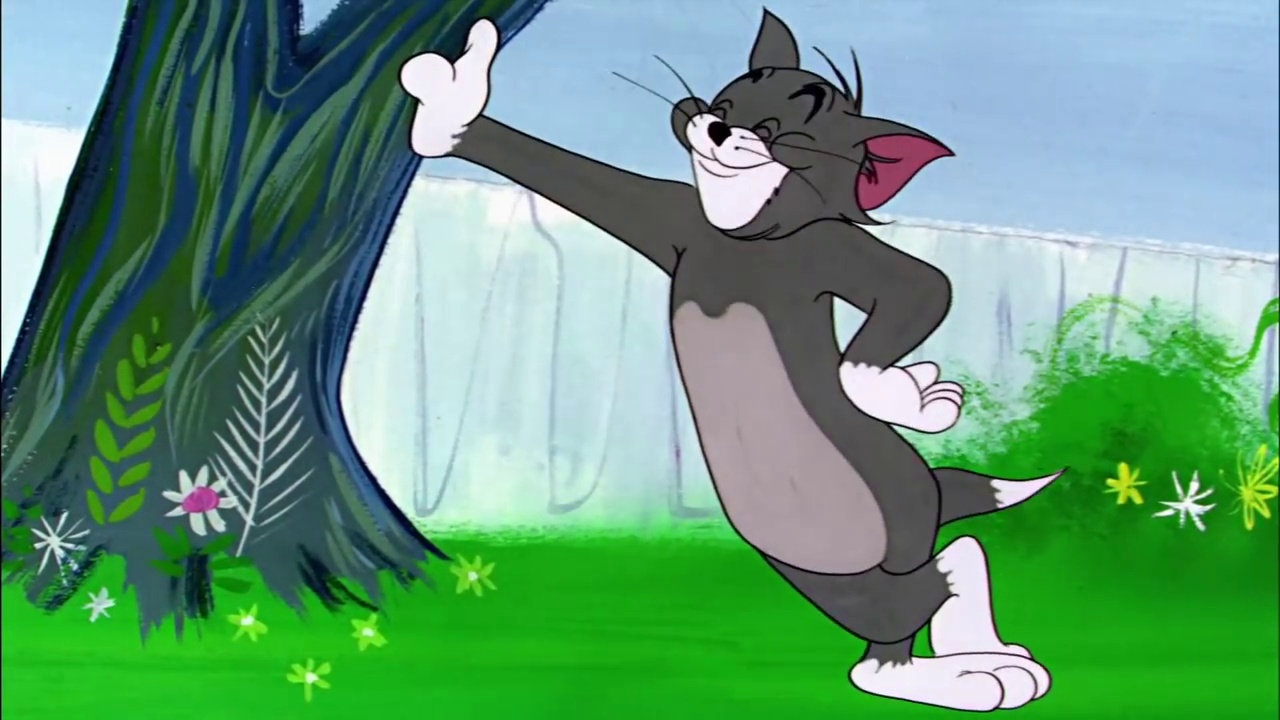tom: (658, 3, 959, 245)
